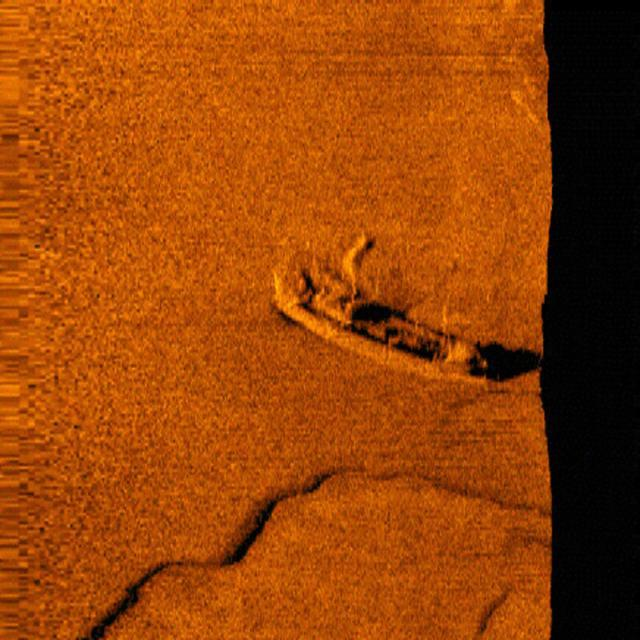shipwreck: (270, 256, 500, 392)
